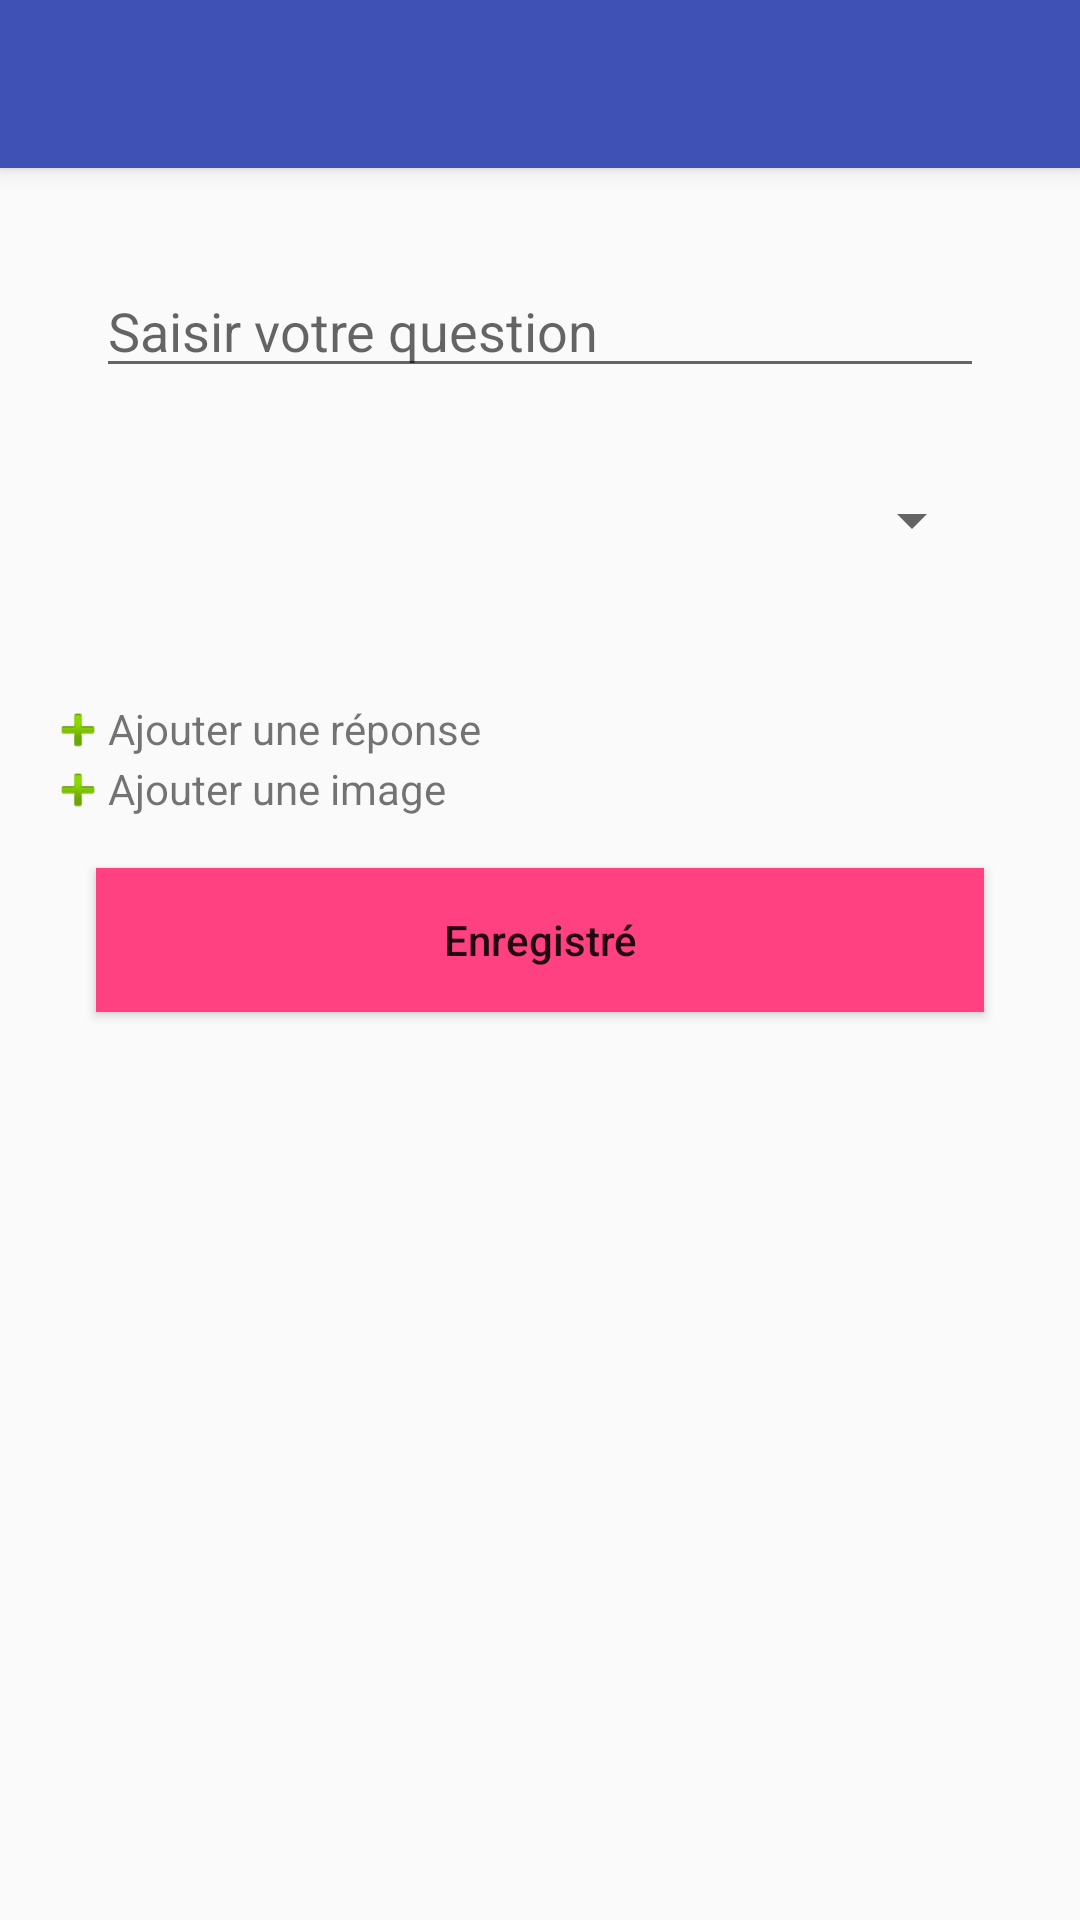

Named icons in this screenshot (1080 x 1920) and their bounding boxes, (x1, y1, x2, y2):
add: (61, 713, 95, 747), (61, 773, 95, 807)
